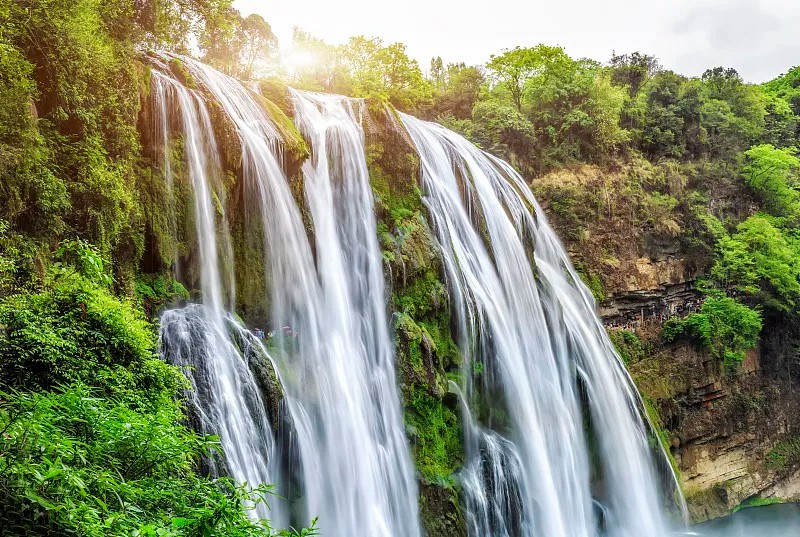Huangguoshu: (157, 52, 687, 537)
